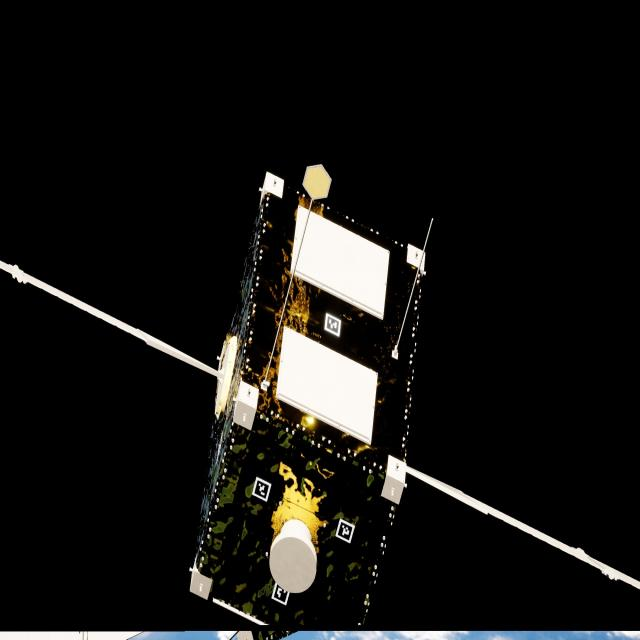medium_debris: (0, 173, 640, 640)
